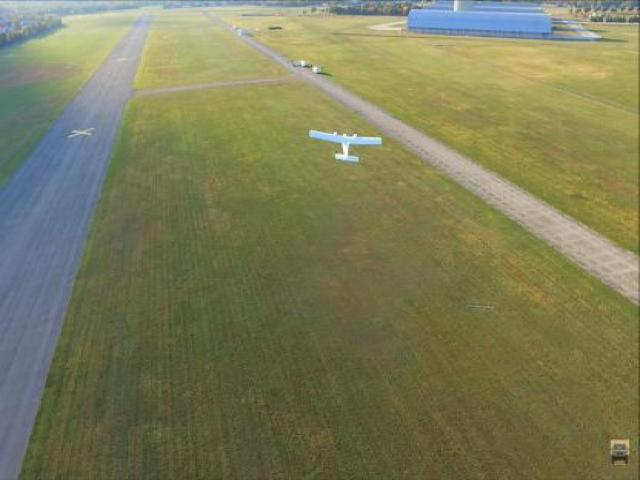uav: (307, 126, 382, 166)
